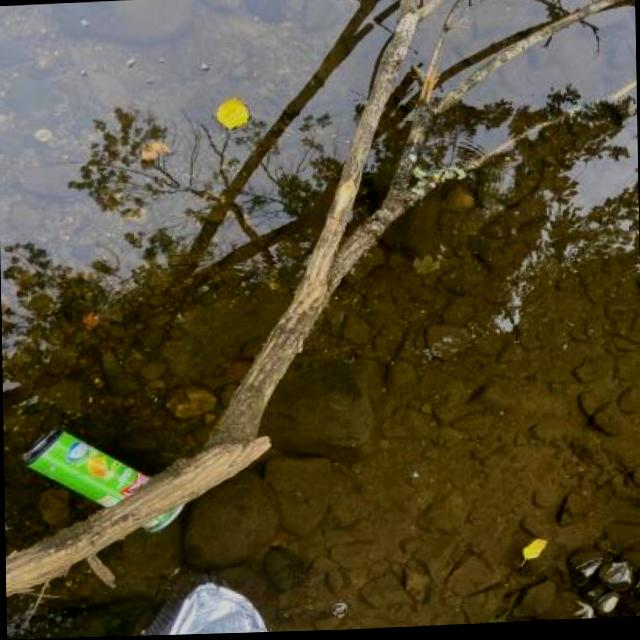Can-Metal: (18, 419, 190, 544), (143, 574, 281, 637)
